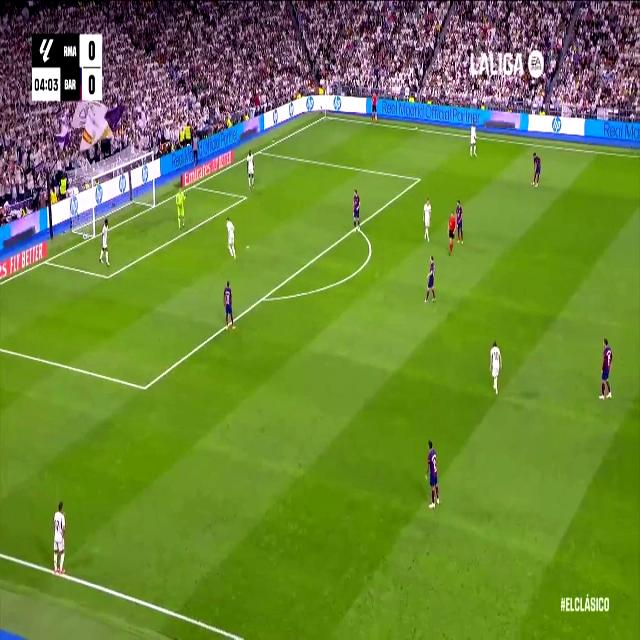bigarea_bottom_inner: (140, 376, 150, 399)
bigarea_top_inner: (416, 172, 420, 185)
bigarea_top_outter: (256, 143, 264, 157)
bottom_arc_area_intersection: (258, 289, 268, 307)
corner: (322, 113, 328, 120)
smallarea_bottom_inner: (104, 268, 112, 286)
smallarea_bottom_outter: (43, 254, 49, 267)
smallarea_top_inner: (242, 192, 248, 202)
smallarea_top_outter: (190, 180, 198, 191)
top_arc_area_intersection: (353, 220, 361, 234)
